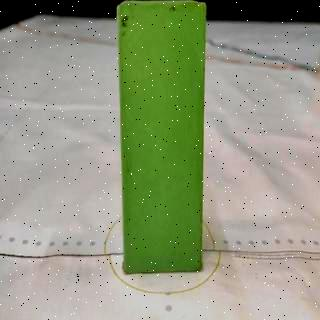greenbox: (113, 1, 210, 283)
